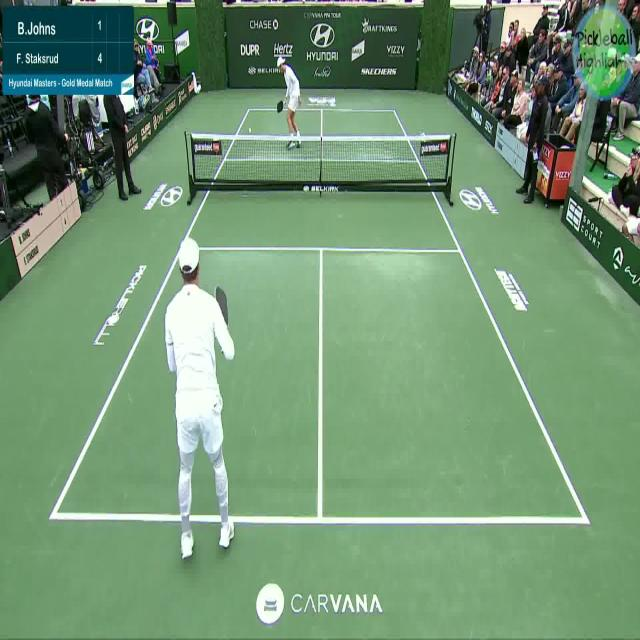ball: (247, 125, 252, 135)
